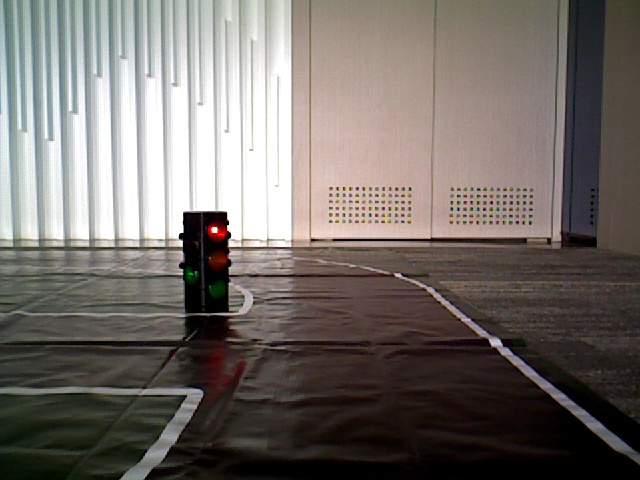red: (195, 211, 228, 287)
